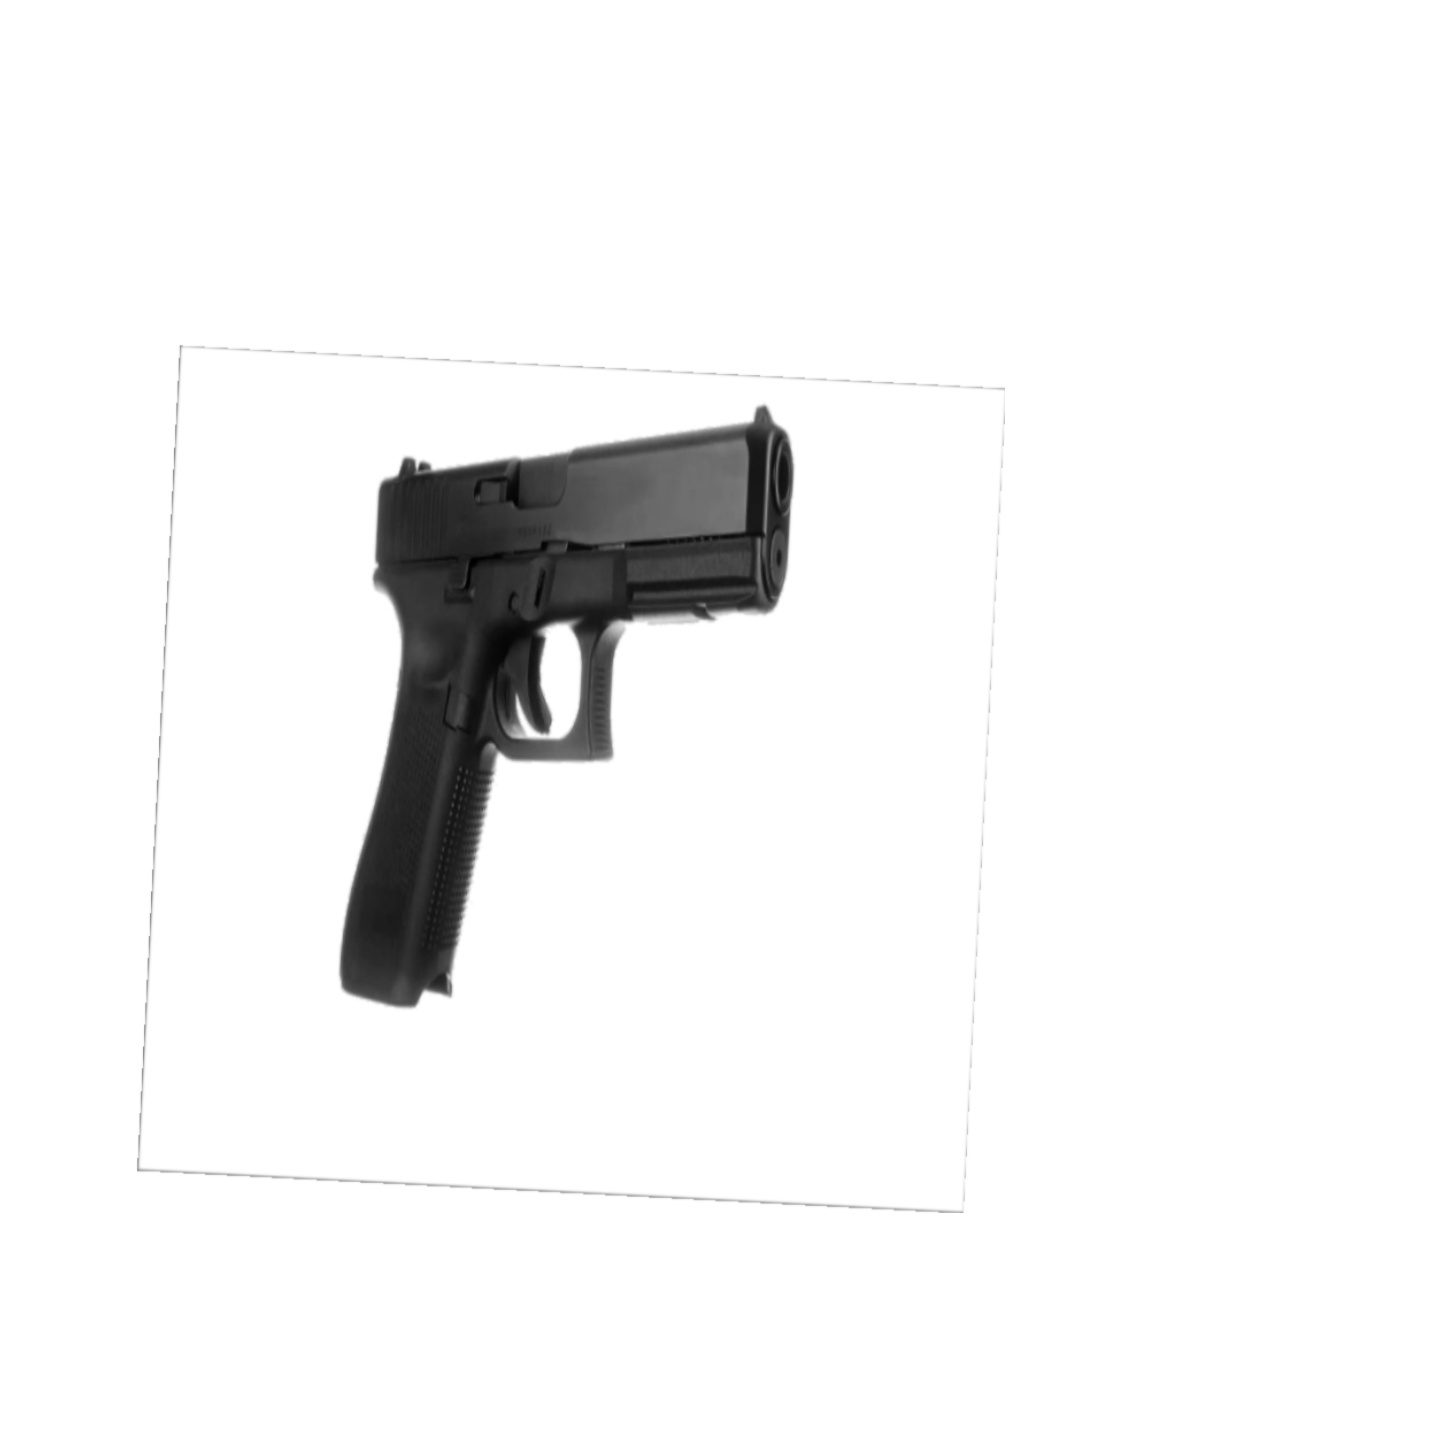gun: (333, 406, 801, 1006)
